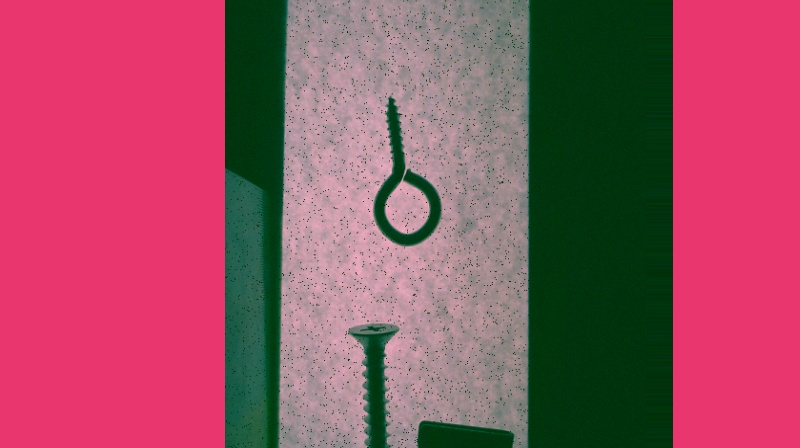O001: (371, 92, 444, 250)
O002: (399, 413, 516, 447)
S001: (343, 320, 401, 447)
